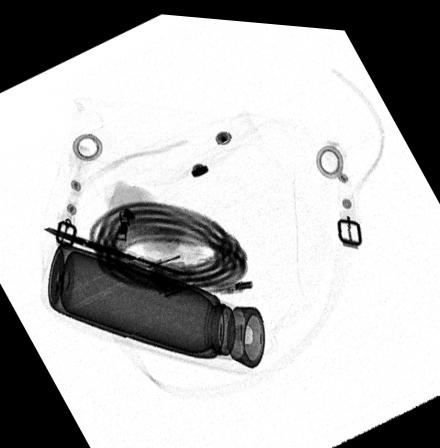Scissors: (42, 221, 196, 276)
